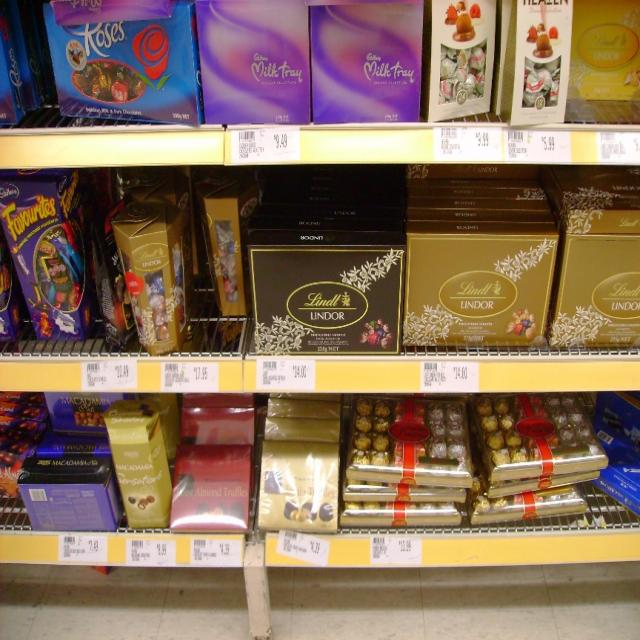q112: (406, 231, 564, 349), (567, 223, 640, 359)
q115: (254, 237, 405, 368)
